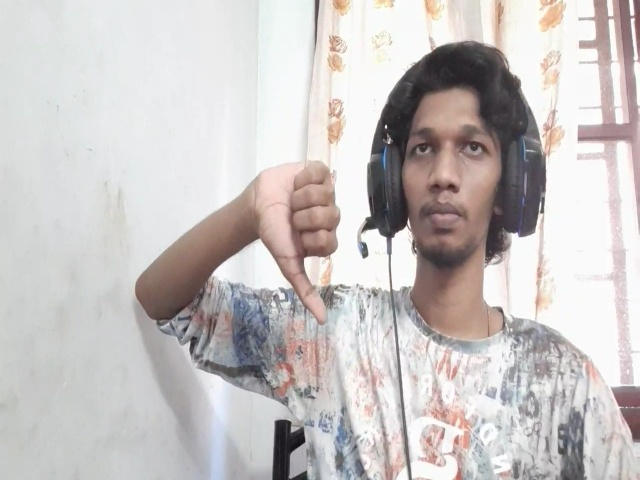ThumbsDown: (254, 161, 342, 326)
